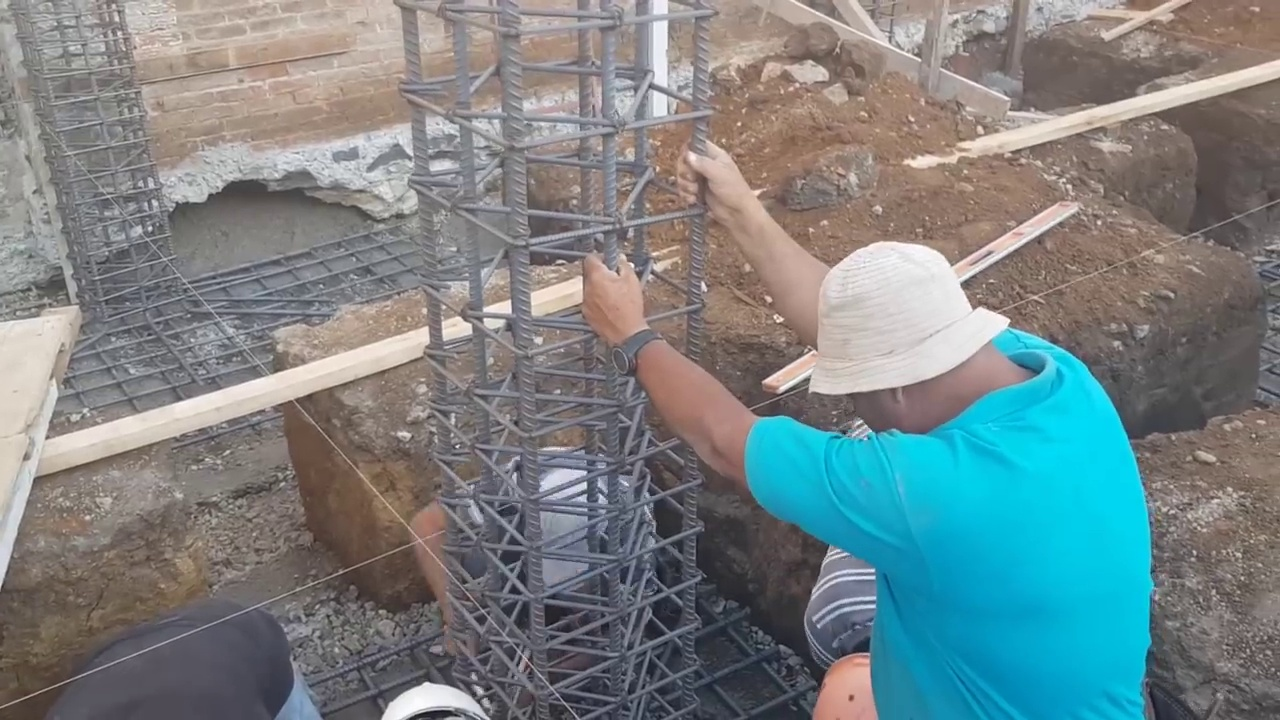helmet: (801, 653, 884, 717)
helmet-off: (808, 245, 1041, 429), (523, 461, 618, 599)
helmet-on: (800, 630, 890, 719), (374, 686, 490, 718)
person: (591, 218, 1172, 720), (420, 437, 669, 678), (46, 600, 337, 714), (798, 531, 903, 713)
